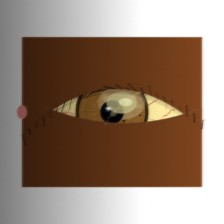corneal_ulcer: (97, 83, 146, 123)
